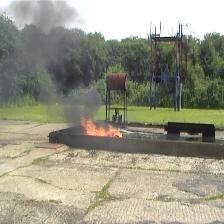fire: (81, 113, 122, 138)
